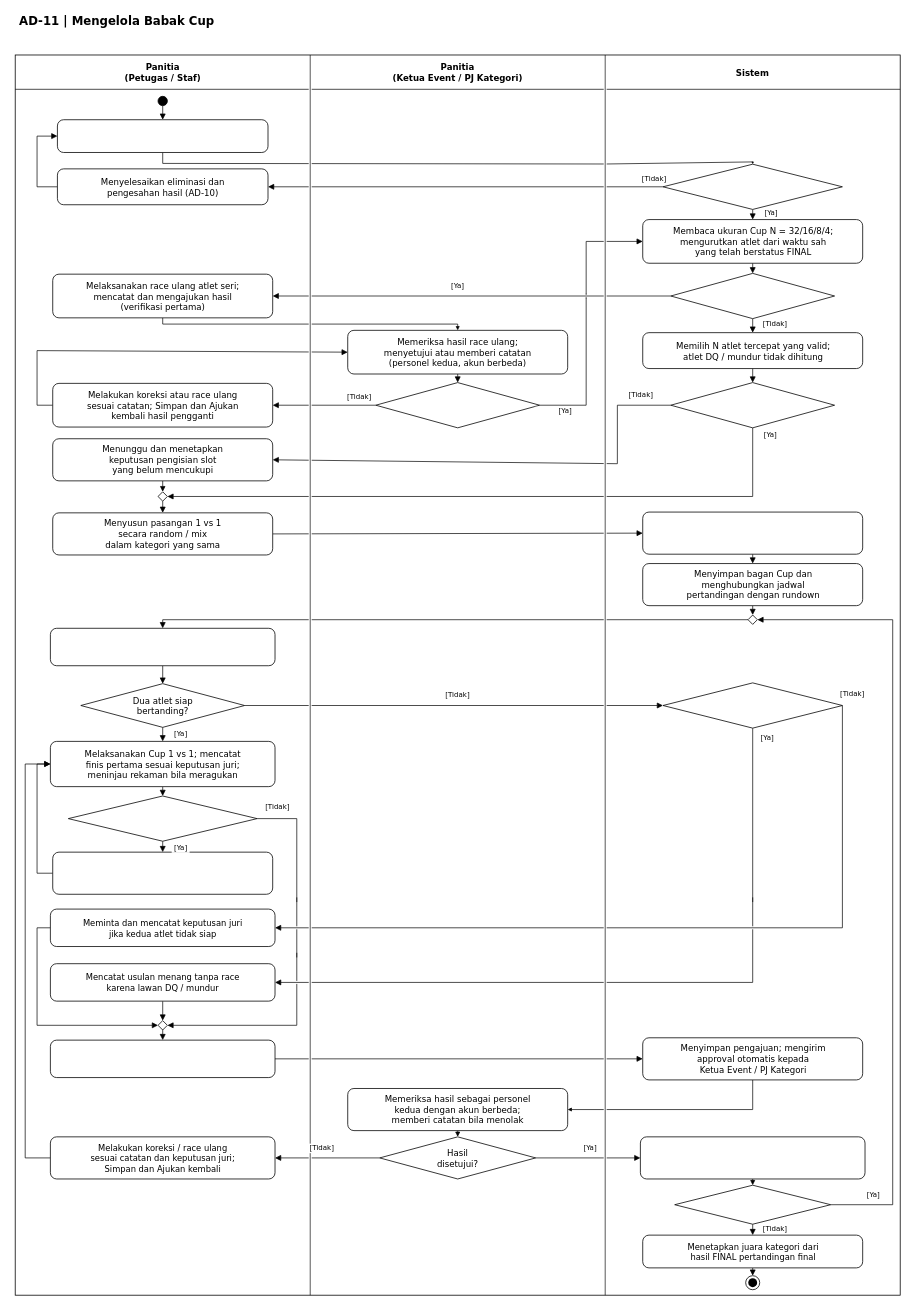
Image size: 915x1310. Some labels were removed from this diagram. Each missing label, with the box of its shape:
Atlet Seri pada batas kelolosan?: (670, 273, 835, 319)
Atlet valid mencukupi N?: (670, 382, 835, 428)
Eliminasi selesai dan hasil sudah FINAL?: (662, 163, 842, 209)
Hasil race ulang disetujui?: (375, 382, 540, 428)
Masih ada pertandingan?: (674, 1184, 831, 1224)
Membuka bagan Cup pada kategori terpilih: (57, 119, 268, 152)
Memeriksa atlet tidak ganda; pasangan dan jalur babak berikutnya harus jelas: (642, 511, 863, 554)
Memeriksa hasil; Simpan dan Ajukan sebagai verifikasi pertama: (50, 1039, 275, 1078)
Memilih pasangan kategori UNLOCKED; mengonfirmasi pra-race (AD-09): (50, 628, 275, 666)
Mencatat alasan race ulang; menyiapkan pencatatan hasil pengganti: (52, 851, 273, 894)
Mencatat verifikasi kedua dan FINAL; memajukan pemenang ke babak berikutnya: (640, 1136, 865, 1179)
Perlu race ulang menurut keputusan juri?: (68, 795, 257, 841)
Satu atlet lawan DQ / mundur?: (662, 682, 842, 728)
